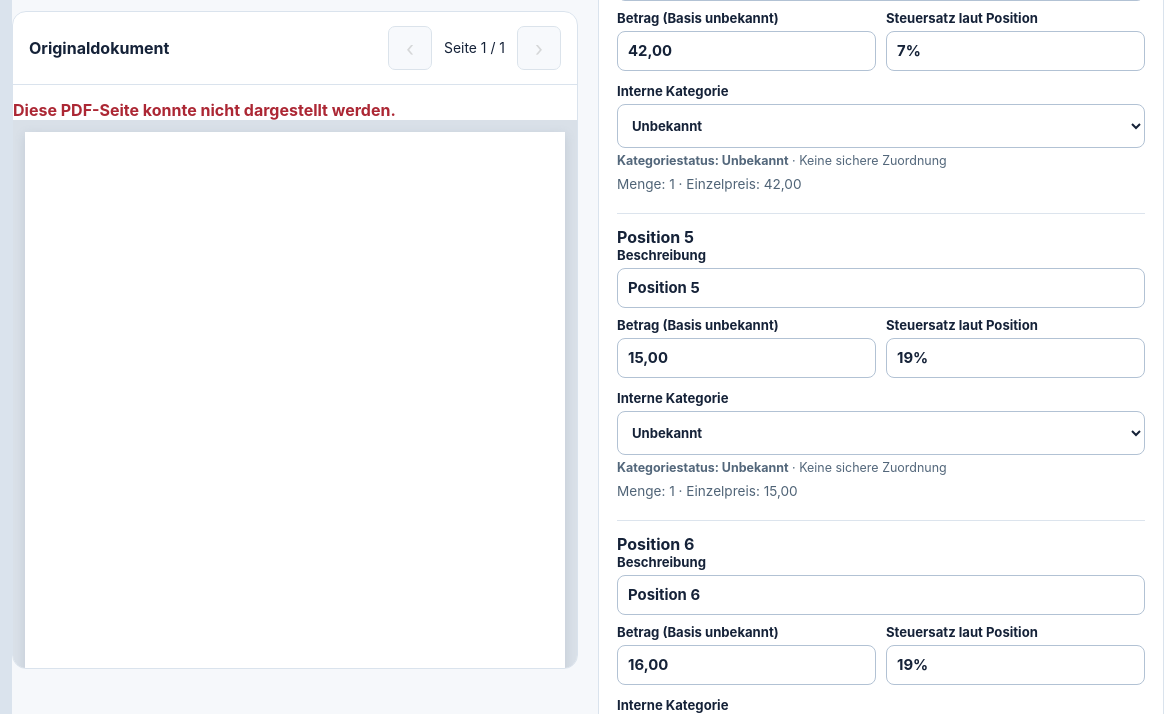
Test: position sum in the browser invoice review › recomputes the displayed sum immediately after a manual amount correction
This screenshot has width=1164, height=714.
(page scrolled)
Replace the text in the field named "Position 5 Betrag" with "16,00". click: coordinates (746, 358)
box: [617,338,876,378]
(page scrolled)
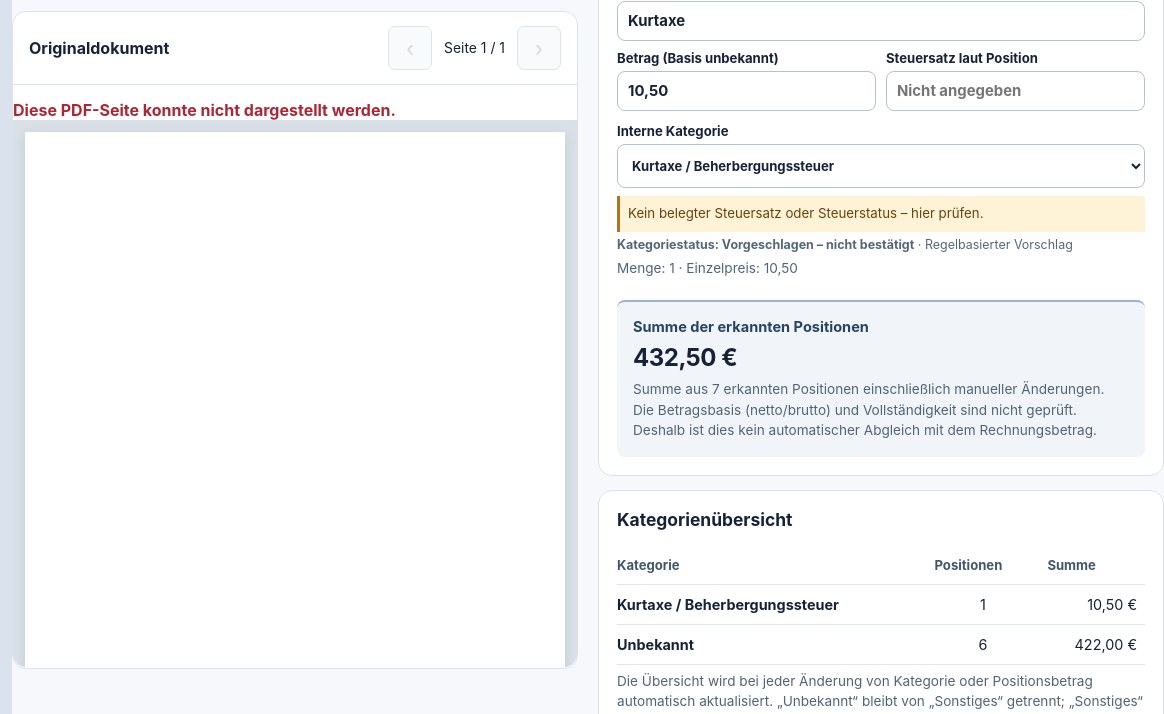
Result: the text "432,50 €" is shown at [633,344,737,372]
